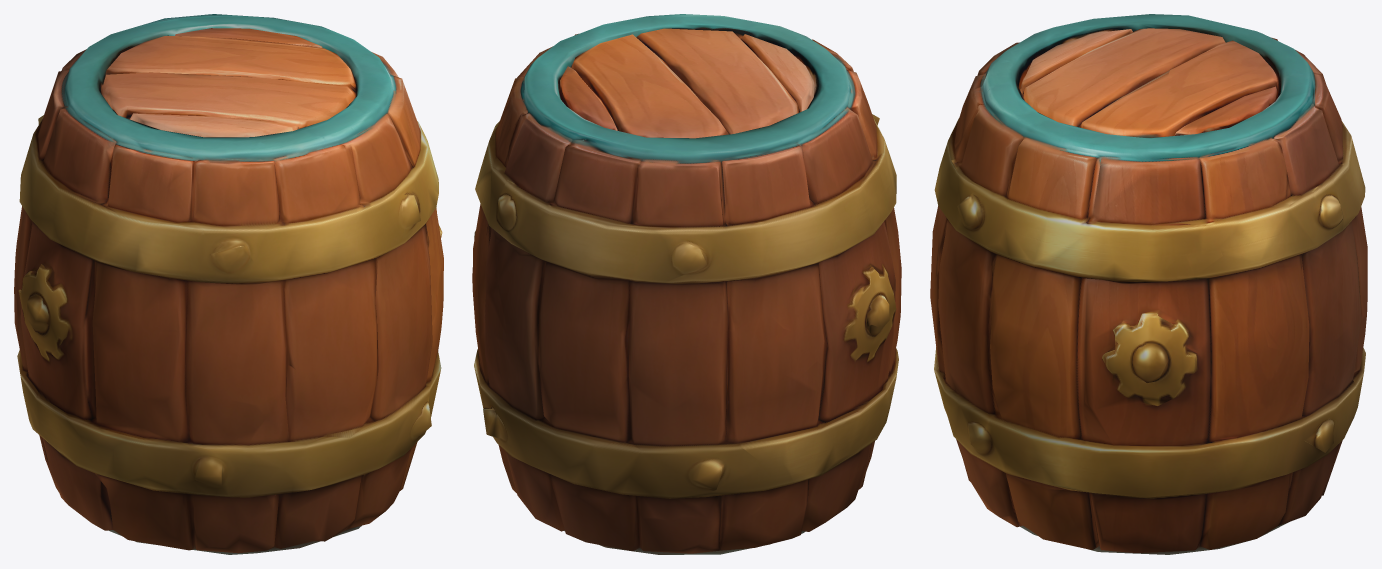
Rendered from Kit_X_Barrel_raw.glb.
3 views of the same model, side by side, from view 1: azimuth 30°, elevation 25°; view 2: azimuth 150°, elevation 25°; view 3: azimuth 270°, elevation 25° (orthographic).
Parts seen in each view (by area): view 1: tripo_node_d8126955-5307-4f9b-b811-e270cf6da47e; view 2: tripo_node_d8126955-5307-4f9b-b811-e270cf6da47e; view 3: tripo_node_d8126955-5307-4f9b-b811-e270cf6da47e.
Boxes of the visible parts, <box> form: tripo_node_d8126955-5307-4f9b-b811-e270cf6da47e: <box>14,14,443,554</box>; tripo_node_d8126955-5307-4f9b-b811-e270cf6da47e: <box>472,14,901,554</box>; tripo_node_d8126955-5307-4f9b-b811-e270cf6da47e: <box>930,14,1367,554</box>.
Bounding box in the file's own units: 0.9932 × 1 × 0.9402.
Materials: 1 (1 with a texture image).
